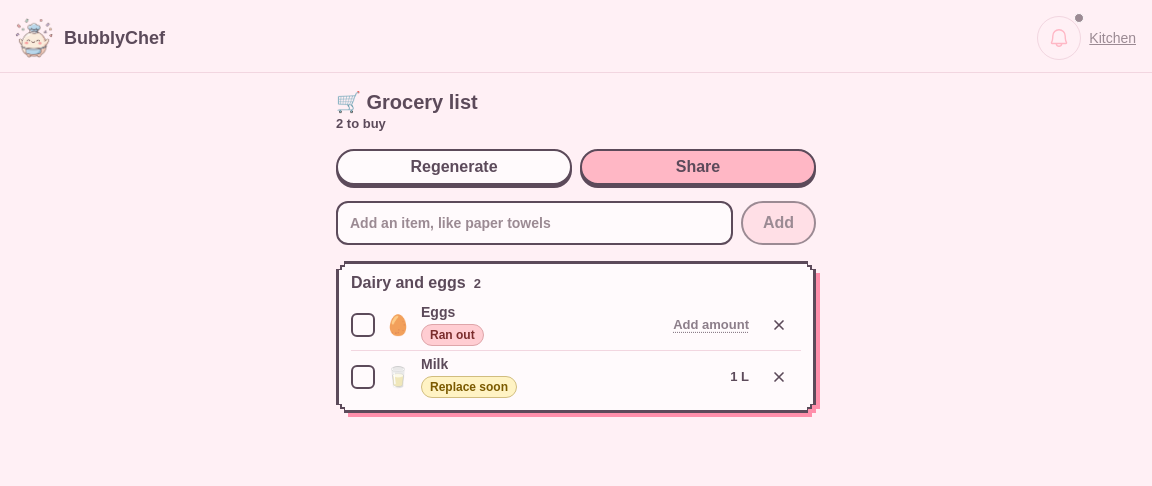
Test: /grocery: editing › saves on Enter and drops the edit on Escape
Click the button named "edit amount of milk": point(740, 376) [722,354,757,398]
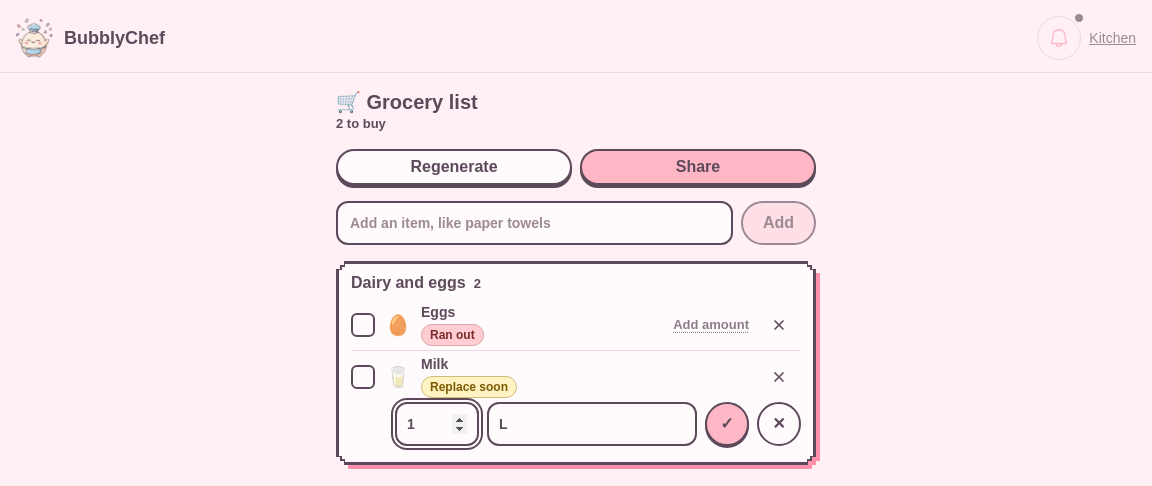
Replace the text in the number field named "quantity of milk" with "3": point(437, 424) [395,402,479,446]
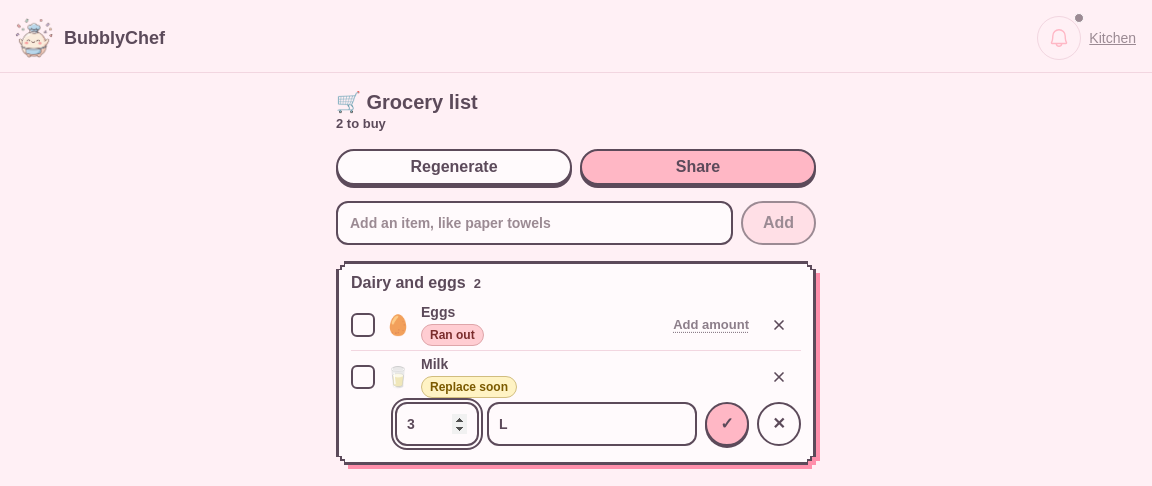
Press Enter in the number field named "quantity of milk", box [395,402,479,446]
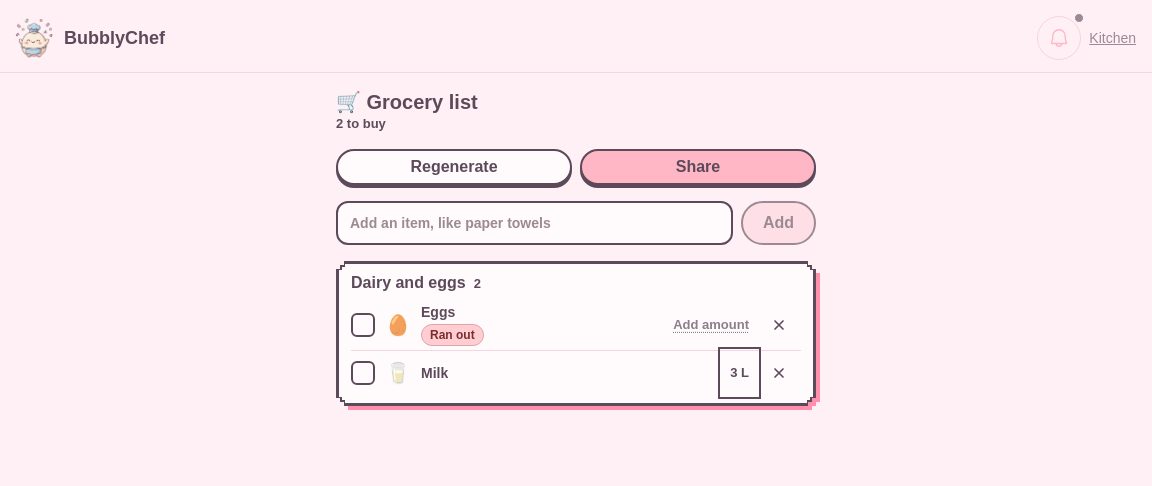
Expected: the button named "edit amount of milk" reads "3 L"
Click the button named "edit amount of milk": point(740, 373) [722,351,757,395]
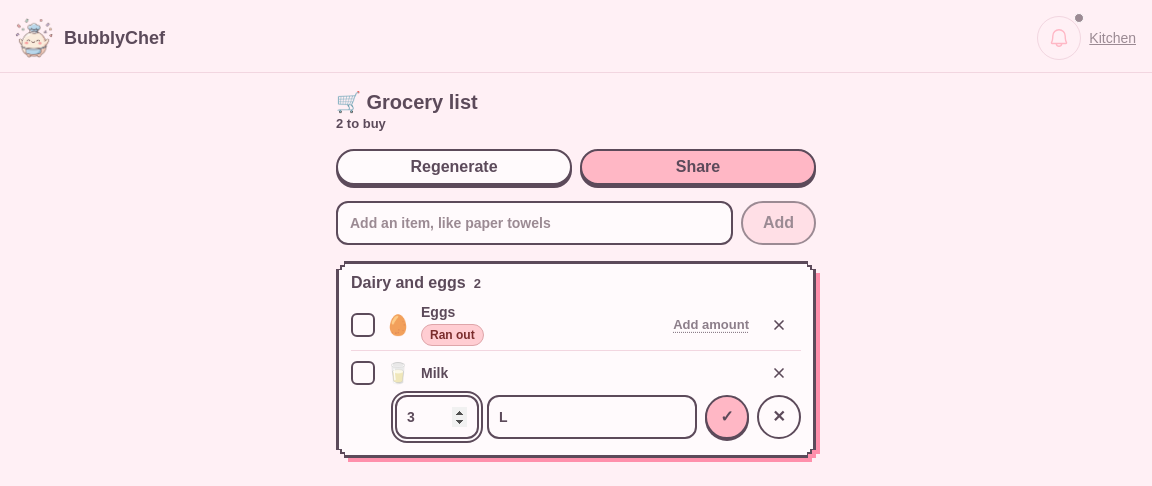
Replace the text in the number field named "quantity of milk" with "9": point(437, 417) [395,395,479,439]
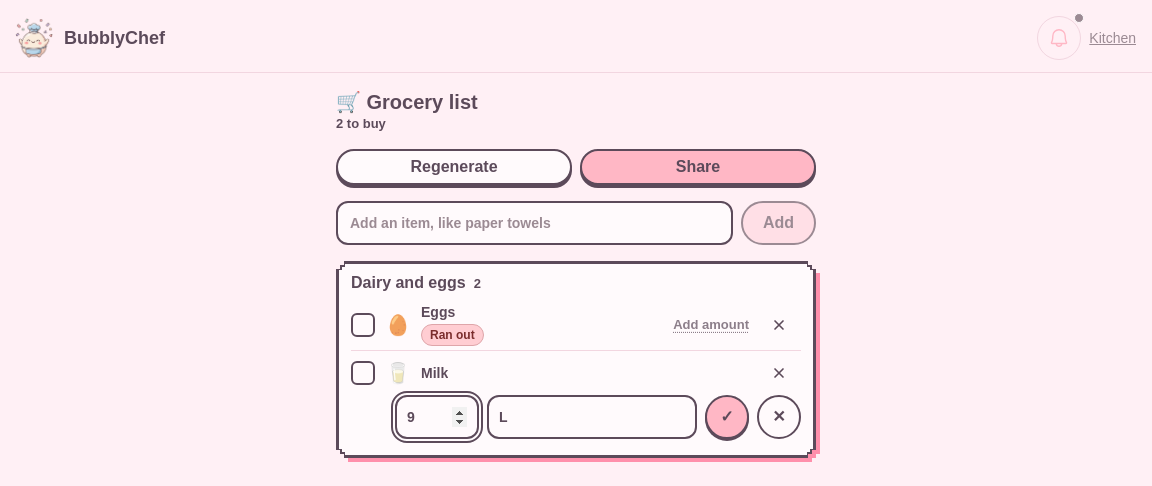
Press Escape in the number field named "quantity of milk", box [395,395,479,439]
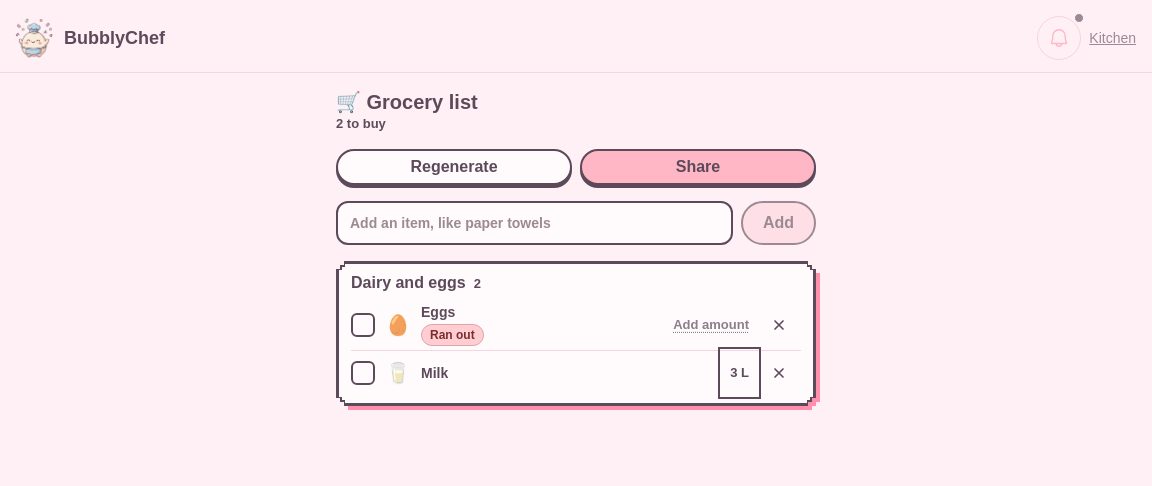
Expected: the button named "edit amount of milk" reads "3 L", [722,351,757,395]
